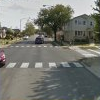crosswalk: (5, 61, 82, 68), (9, 45, 57, 47)
